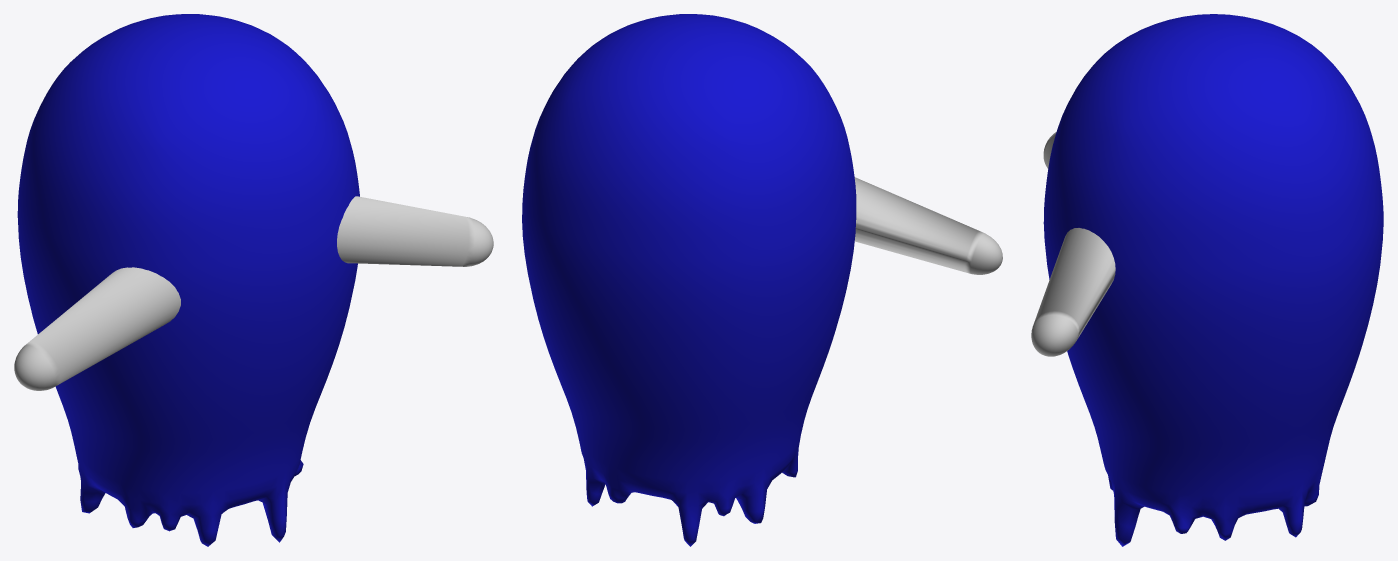
Rendered from afterThrow_000027.obj.
3 views of the same model, side by side, from view 1: azimuth 30°, elevation 25°; view 2: azimuth 150°, elevation 25°; view 3: azimuth 270°, elevation 25° (orthographic). The views are drawn at different scales.
Visible parts, largest first — view 1: Cube, Sphere.001, Sphere; view 2: Cube, Sphere.001; view 3: Cube, Sphere.
Boxes of the visible parts, x1,y1,x2,y2 form: Cube: (17, 14, 359, 546); Sphere.001: (14, 267, 180, 390); Sphere: (337, 196, 493, 266); Cube: (522, 14, 856, 546); Sphere.001: (854, 177, 1002, 274); Cube: (1043, 14, 1383, 546); Sphere: (1031, 228, 1115, 356).
Bounding box in the file's own units: 0.4583 × 0.4582 × 0.2964.
